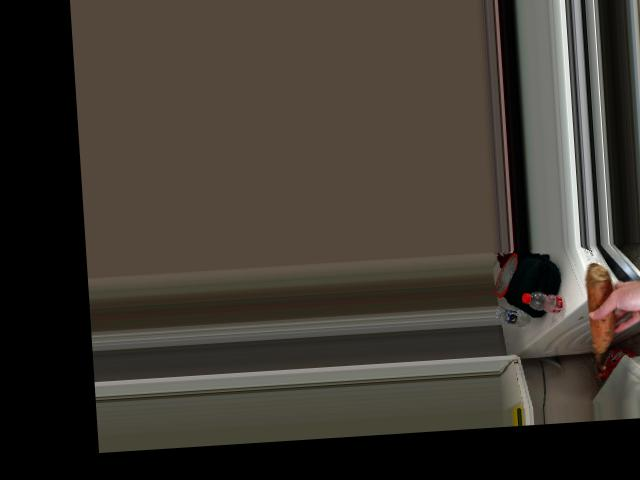sweet_potato: (586, 271, 617, 358)
